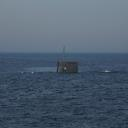submarine: (53, 47, 81, 72)
